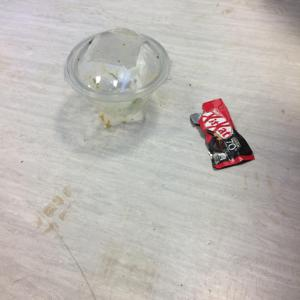plastic: (52, 20, 172, 129), (189, 95, 264, 170)
